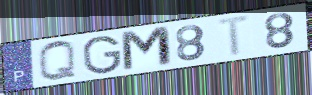8: (263, 11, 297, 50), (174, 24, 208, 62)
G: (81, 34, 124, 76)
M: (118, 24, 175, 74)
Q: (36, 40, 79, 83)
T: (215, 13, 255, 59)
